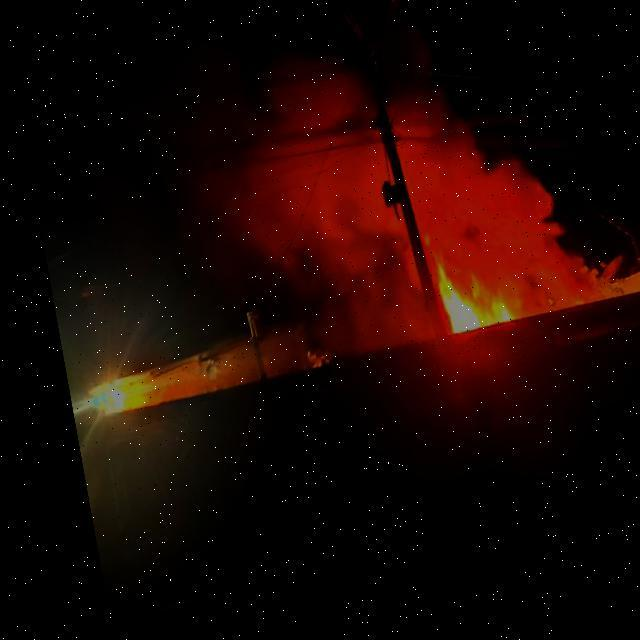Fire: (418, 263, 500, 343)
